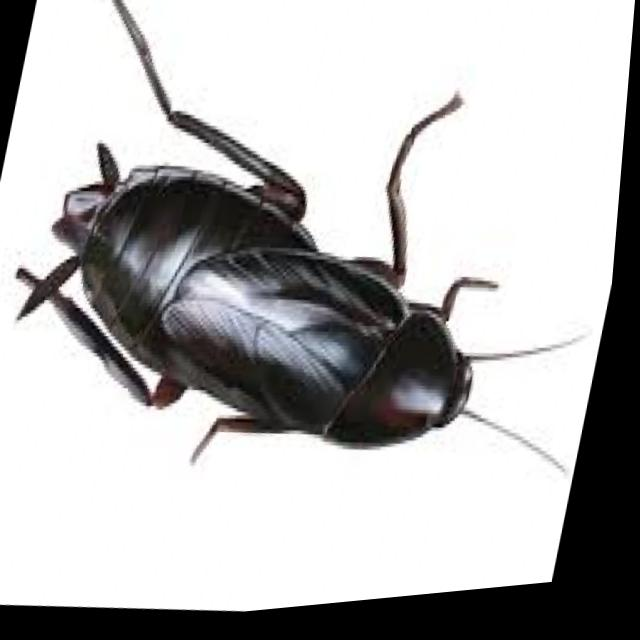Cockroach: (0, 0, 640, 539)
